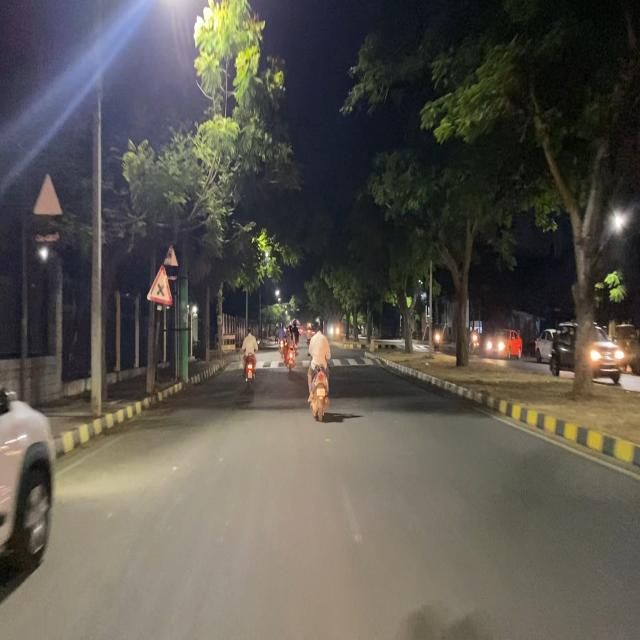bien_cam: (147, 264, 173, 306)
